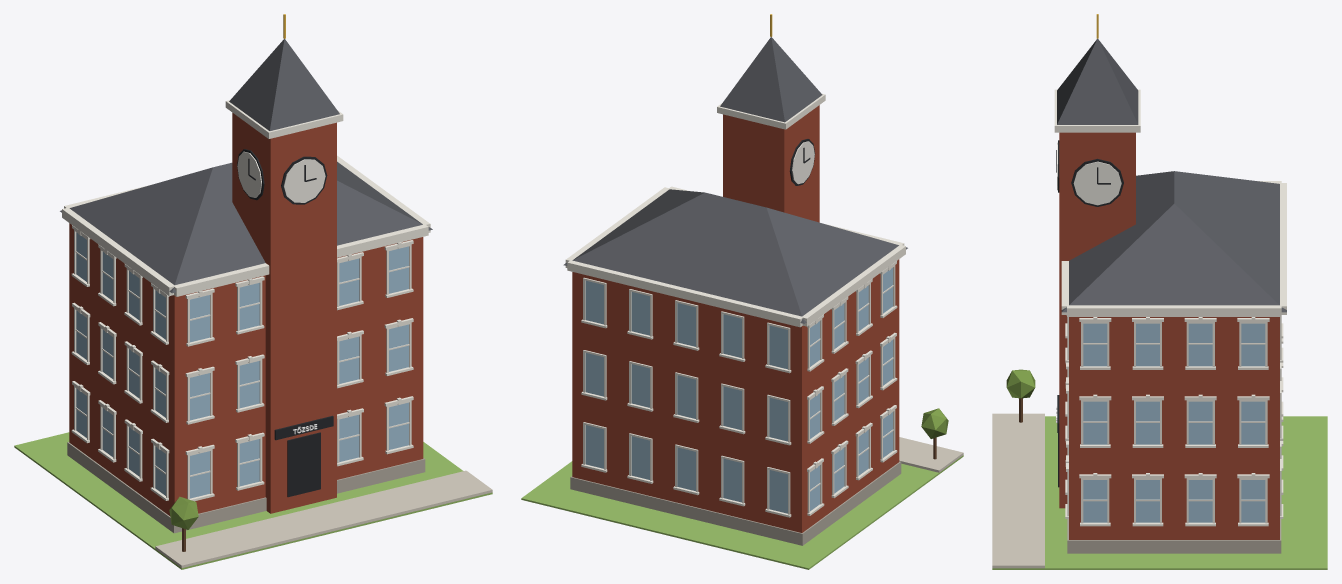
Rendered from Buro_saat_kuleli_2_Hafif.fbx.
The picture shows the model from 3 angles, left to right: view 1: azimuth 30°, elevation 25°; view 2: azimuth 150°, elevation 25°; view 3: azimuth 270°, elevation 25°; orthographic projection. The views are drawn at different scales.
Visible parts, largest first — view 1: Buro_saat_kuleli_2_Hafif; view 2: Buro_saat_kuleli_2_Hafif; view 3: Buro_saat_kuleli_2_Hafif.
Boxes of the visible parts, x1,y1,x2,y2 form: Buro_saat_kuleli_2_Hafif: (14, 14, 492, 569); Buro_saat_kuleli_2_Hafif: (521, 14, 963, 569); Buro_saat_kuleli_2_Hafif: (992, 14, 1327, 569).
Size of the model in its own units: 15 by 22.08 by 14.
